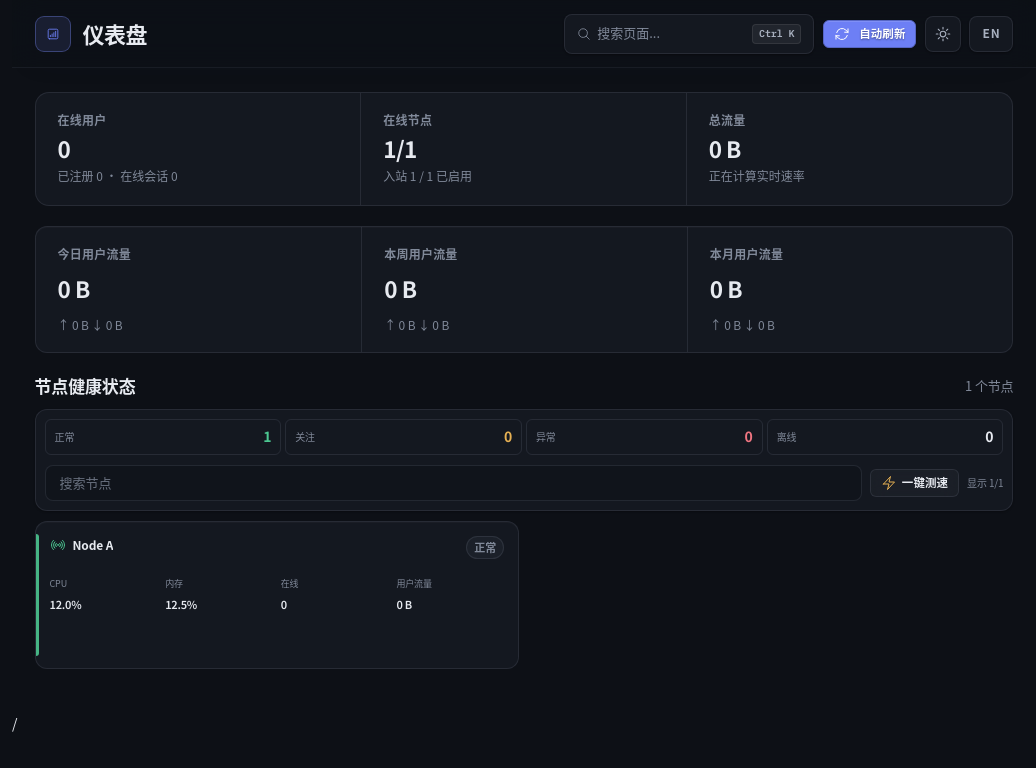
Dashboard › routes each global traffic card to its matching audit traffic window
Click the button "今日用户流量 0 B ↑ 0 B ↓ 0 B" at (94, 254), box [58, 245, 131, 332]
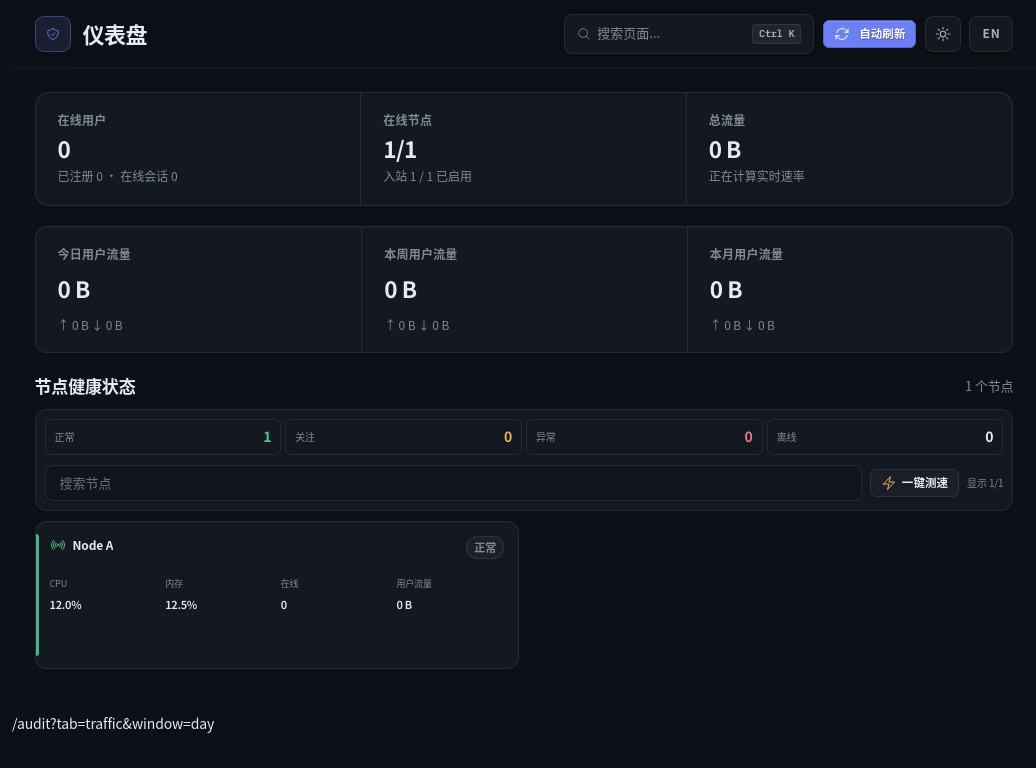
Expected: the text with test id "location" reads "/audit?tab=traffic&window=day", [12, 712, 214, 732]
Click the button "本周用户流量 0 B ↑ 0 B ↓ 0 B" at (421, 254), box [361, 227, 687, 352]
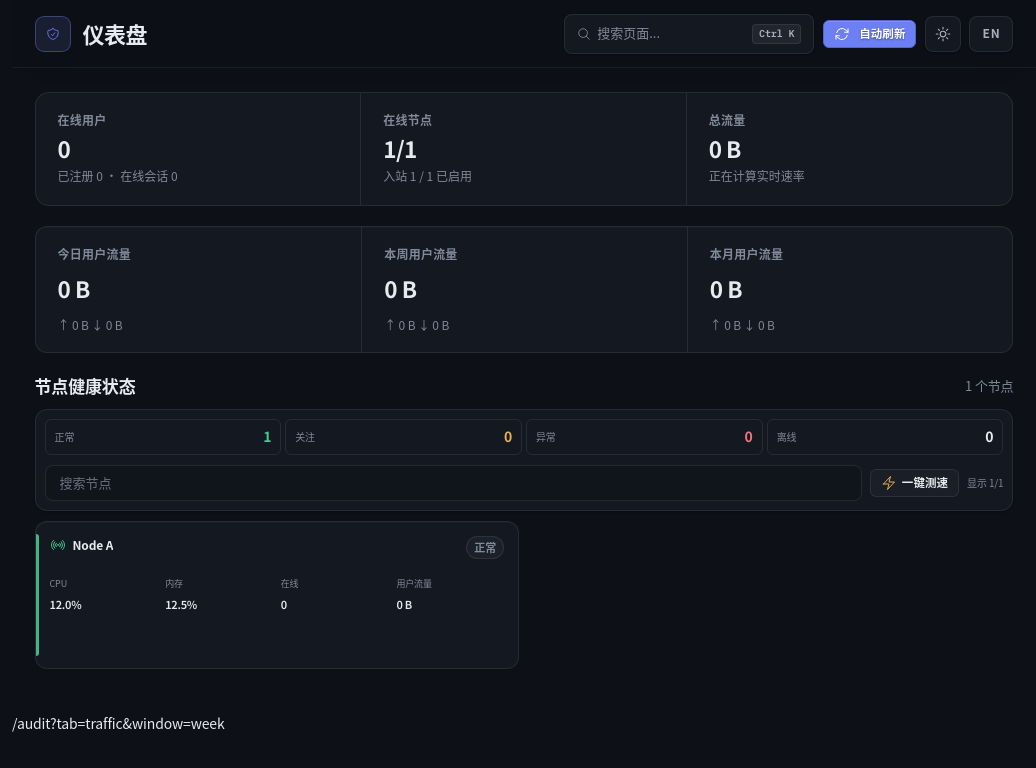
Expected: the text with test id "location" reads "/audit?tab=traffic&window=week", [12, 712, 224, 732]
Click the button "本月用户流量 0 B ↑ 0 B ↓ 0 B" at (747, 254), box [687, 227, 1012, 352]
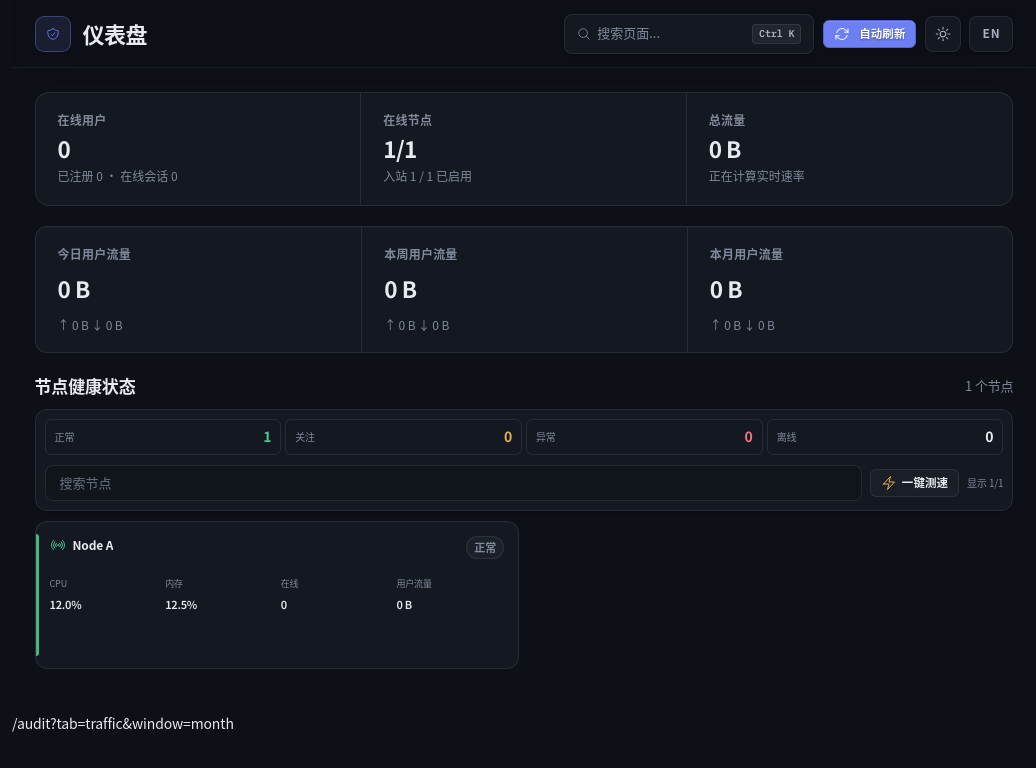
Expected: the text with test id "location" reads "/audit?tab=traffic&window=month", [12, 712, 234, 732]
